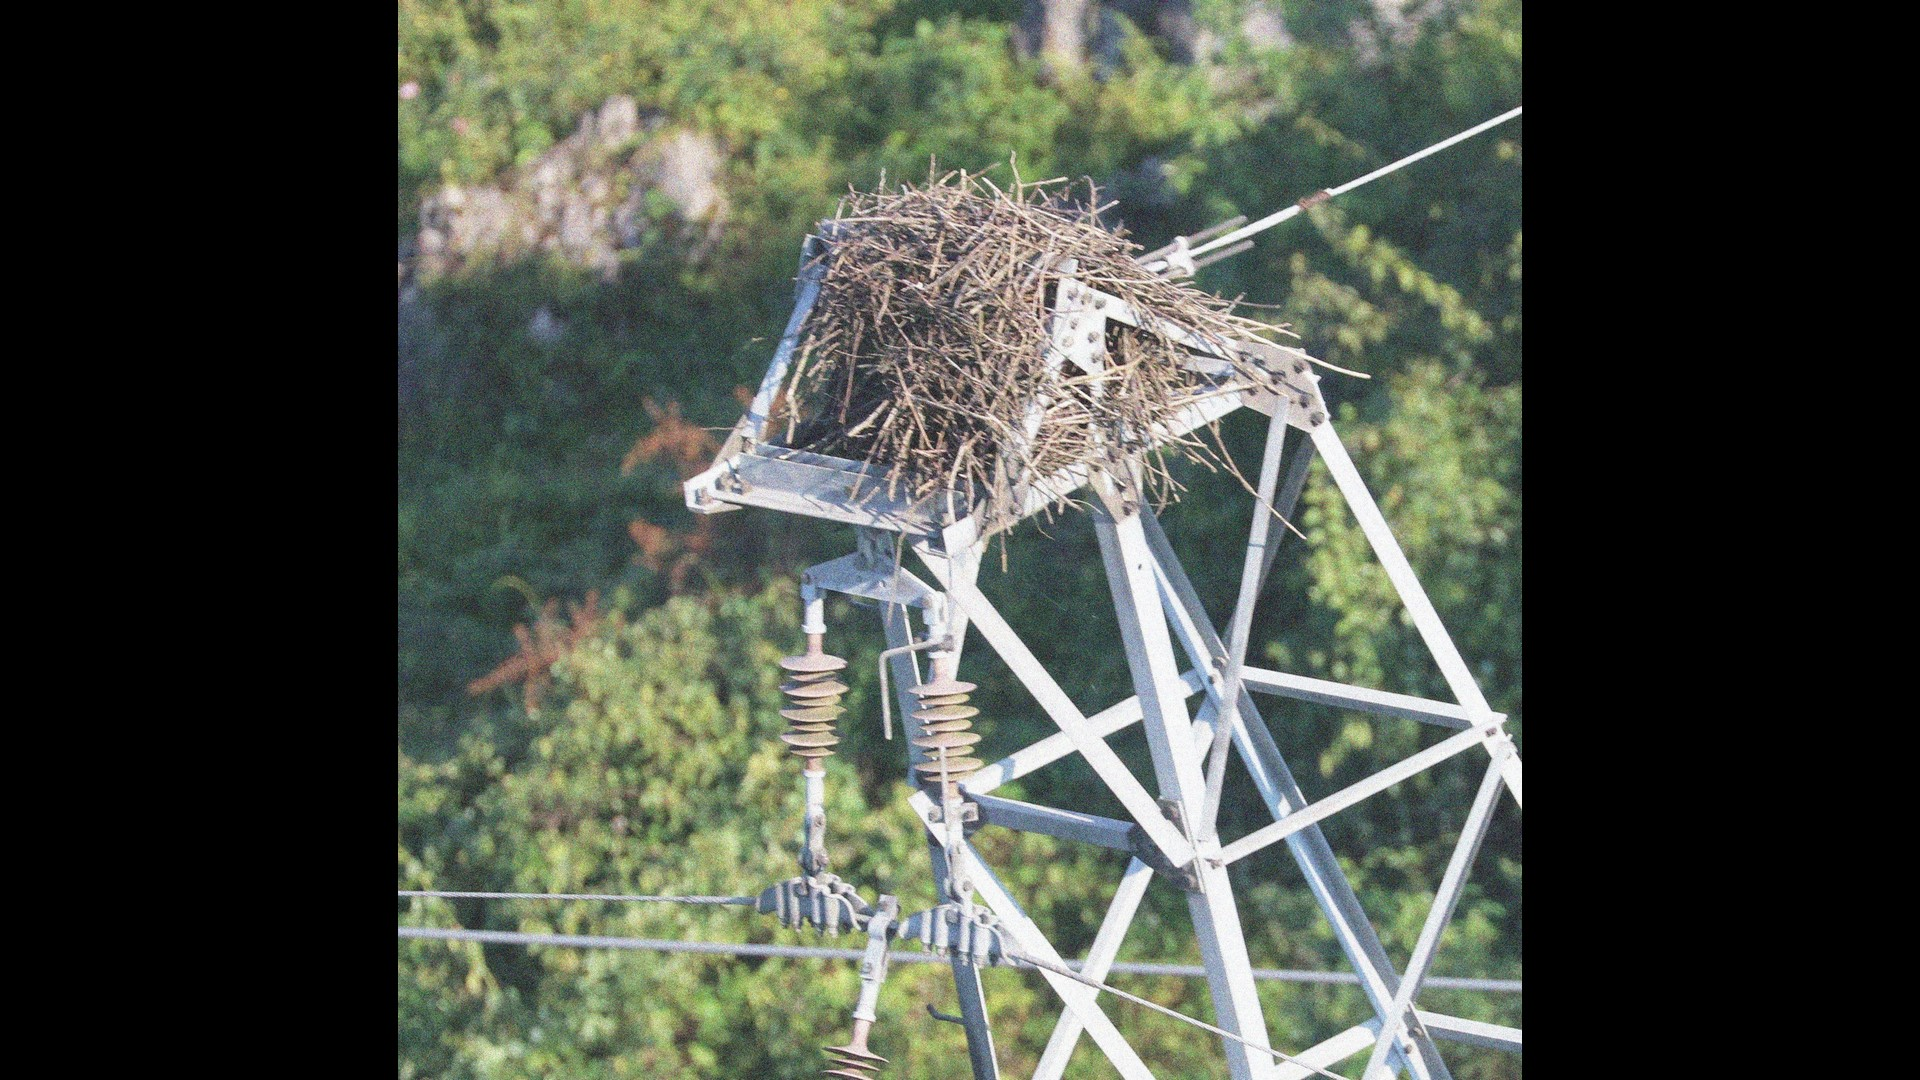niaowo: (786, 161, 1189, 516)
